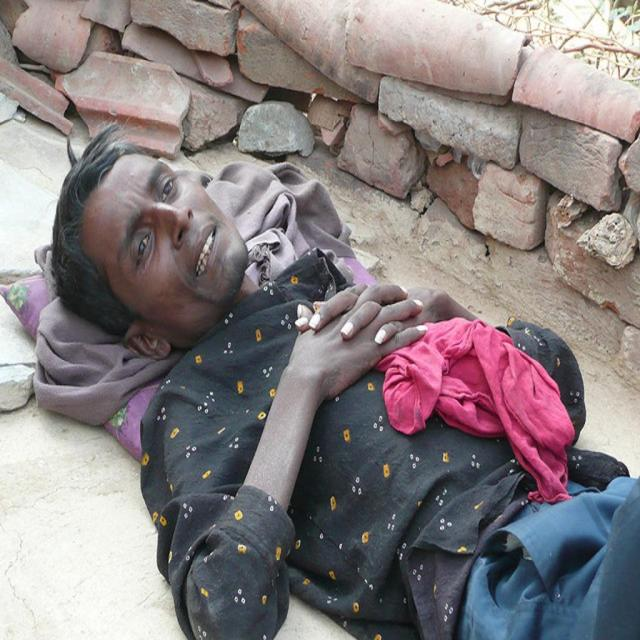nomask: (98, 163, 240, 310)
